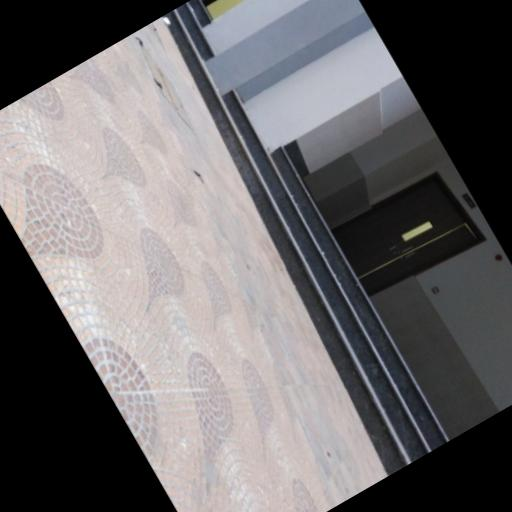stairs: (164, 2, 447, 475)
